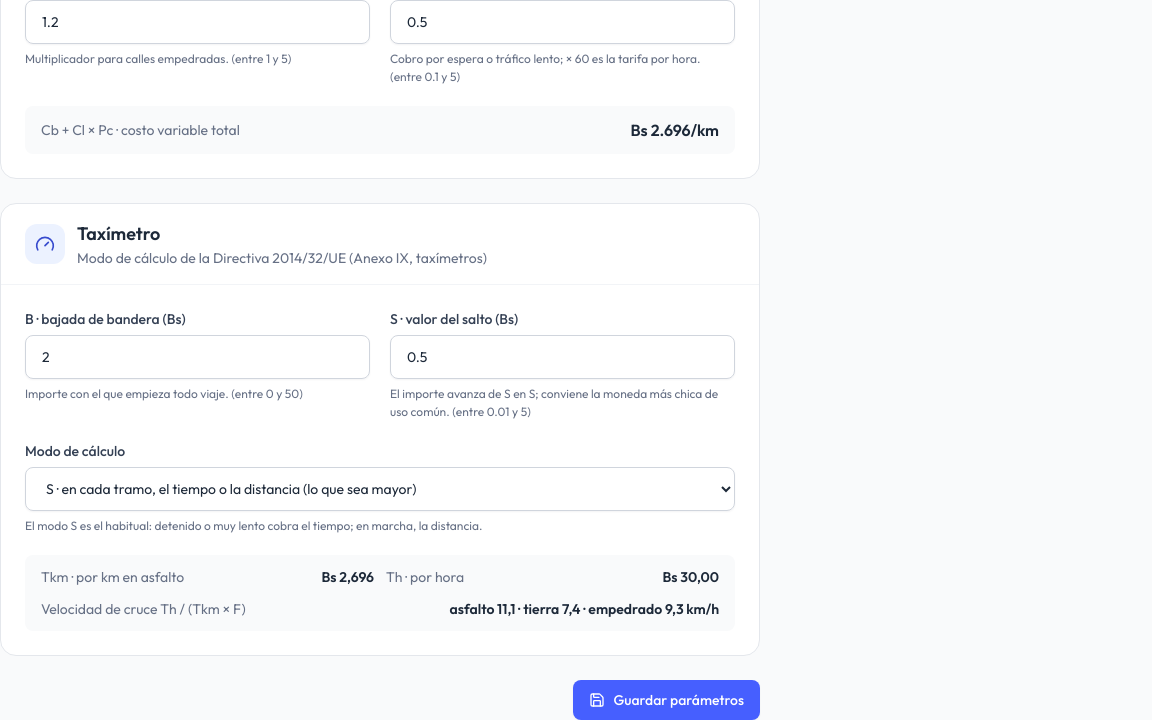
Test: Parámetros › guardar envía los parámetros y actualiza los vigentes
(page scrolled)
Click the button "Guardar parámetros": (667, 700) [573,680,760,719]
(page scrolled)
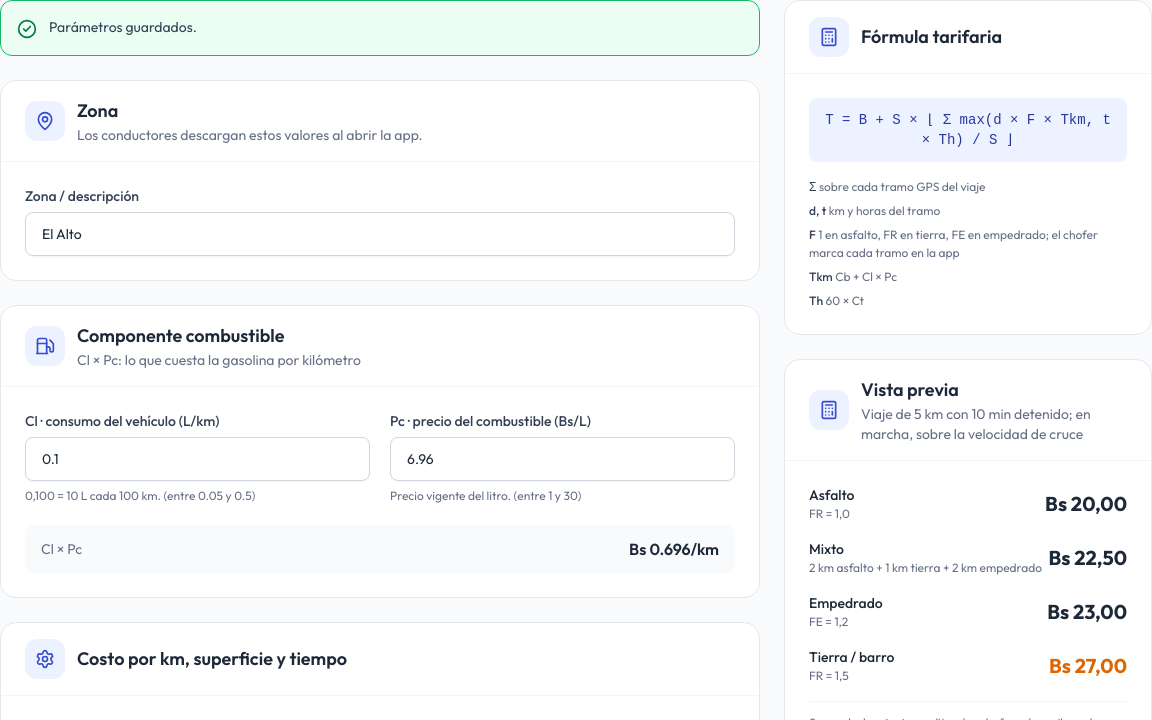
Expected: the message reads "Parámetros guardados.", [49,18,197,36]
